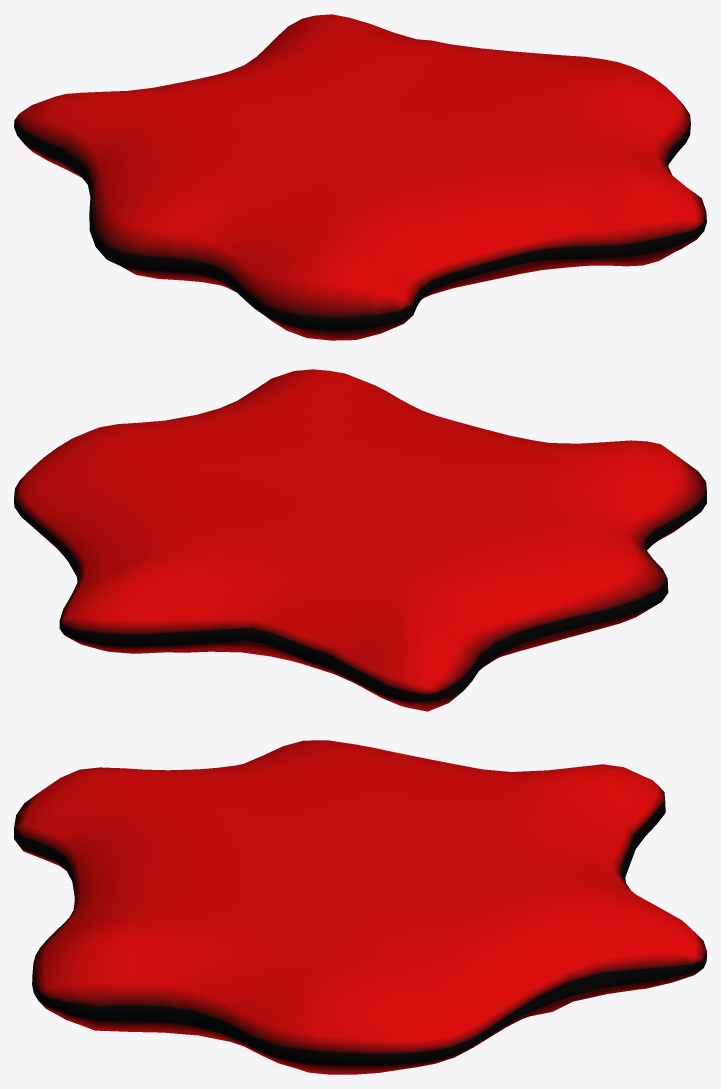
File: WaterPuddle_Full.fbx
3 views of the same model, one above another, from view 1: azimuth 30°, elevation 25°; view 2: azimuth 150°, elevation 25°; view 3: azimuth 270°, elevation 25° (orthographic). The views are drawn at different scales.
Visible parts, largest first — view 1: WaterPuddle_Full; view 2: WaterPuddle_Full; view 3: WaterPuddle_Full.
Part boxes in pixels (left/top/right/bottom): WaterPuddle_Full: left=14, top=14, right=706, bottom=340; WaterPuddle_Full: left=14, top=369, right=706, bottom=711; WaterPuddle_Full: left=14, top=740, right=706, bottom=1074.
Bounding box in the file's own units: 2.2 × 0.3212 × 2.09.
